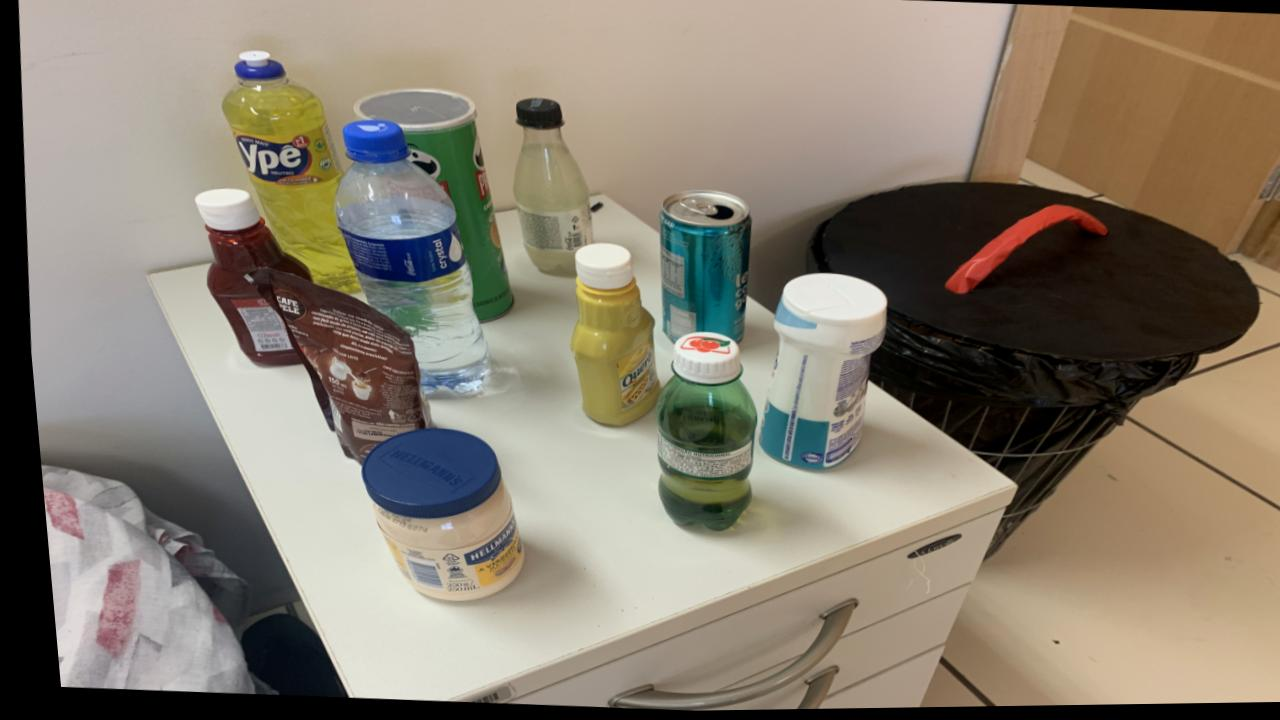Cleaner-Cleanup_Items: (752, 276, 880, 473)
Coffee-Pantry_Items: (243, 268, 424, 463)
Detergent-Cleanup_Items: (220, 53, 354, 295)
Guarana-Drinks: (646, 333, 749, 532)
Ketchup-Pantry_Items: (192, 189, 306, 367)
Mayonnaise-Pantry_Items: (352, 429, 514, 602)
Mustard-Pantry_Items: (565, 245, 651, 427)
Pringles-Snacks: (350, 89, 507, 323)
Soda-Drinks: (509, 100, 588, 277)
Tea-Drinks: (655, 192, 746, 344)
Water_Bottle-Drinks: (330, 120, 483, 395)
